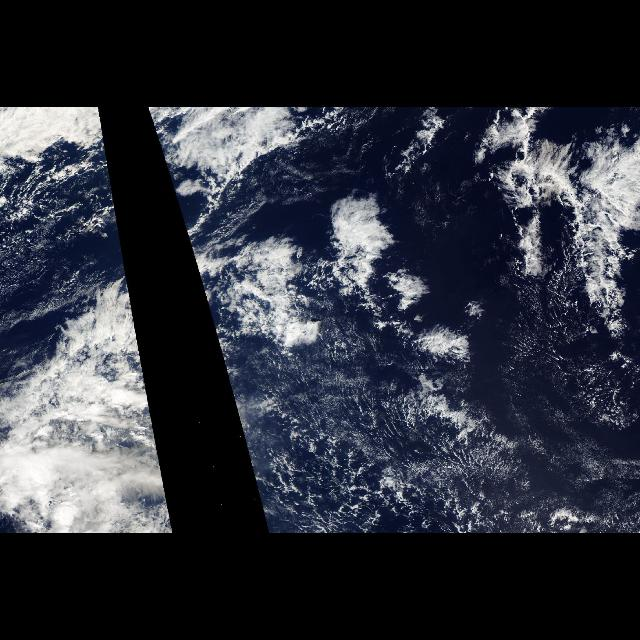Gravel: (238, 334, 620, 522)
Sugar: (241, 363, 639, 533)
